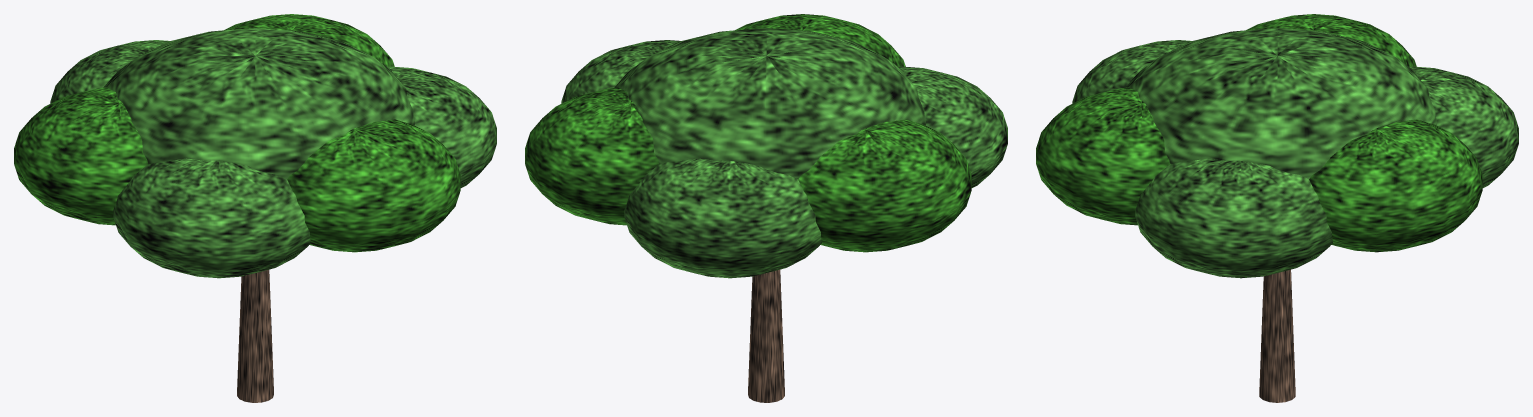
File: tree.glb
The picture shows the model from 3 angles, left to right: view 1: azimuth 30°, elevation 25°; view 2: azimuth 150°, elevation 25°; view 3: azimuth 270°, elevation 25°; orthographic projection.
Parts seen in each view (by area): view 1: Blob_Center, Blob_3, Blob_2, Blob_4, Blob_1, Trunk, Blob_5, Blob_6; view 2: Blob_Center, Blob_5, Blob_4, Blob_6, Blob_3, Trunk, Blob_1, Blob_2; view 3: Blob_Center, Blob_1, Blob_6, Blob_2, Blob_5, Trunk, Blob_3, Blob_4.
Part boxes in pixels (left/top/right/bottom): Blob_Center: left=103, top=28, right=415, bottom=179; Blob_3: left=113, top=158, right=310, bottom=278; Blob_2: left=287, top=119, right=460, bottom=252; Blob_4: left=14, top=87, right=148, bottom=225; Blob_1: left=387, top=66, right=496, bottom=187; Trunk: left=237, top=269, right=273, bottom=402; Blob_5: left=50, top=40, right=169, bottom=103; Blob_6: left=224, top=14, right=394, bottom=66; Blob_Center: left=614, top=28, right=926, bottom=179; Blob_5: left=624, top=158, right=821, bottom=278; Blob_4: left=798, top=119, right=971, bottom=252; Blob_6: left=525, top=87, right=659, bottom=225; Blob_3: left=898, top=66, right=1007, bottom=187; Trunk: left=748, top=269, right=784, bottom=402; Blob_1: left=561, top=40, right=680, bottom=103; Blob_2: left=735, top=14, right=905, bottom=66; Blob_Center: left=1125, top=28, right=1436, bottom=179; Blob_1: left=1135, top=158, right=1332, bottom=278; Blob_6: left=1309, top=119, right=1482, bottom=252; Blob_2: left=1036, top=87, right=1170, bottom=225; Blob_5: left=1409, top=66, right=1518, bottom=187; Trunk: left=1259, top=269, right=1295, bottom=402; Blob_3: left=1072, top=40, right=1191, bottom=103; Blob_4: left=1246, top=14, right=1416, bottom=66.
Bounding box in the file's own units: 10.4 × 8 × 10.33.
3 materials, 3 textured.
